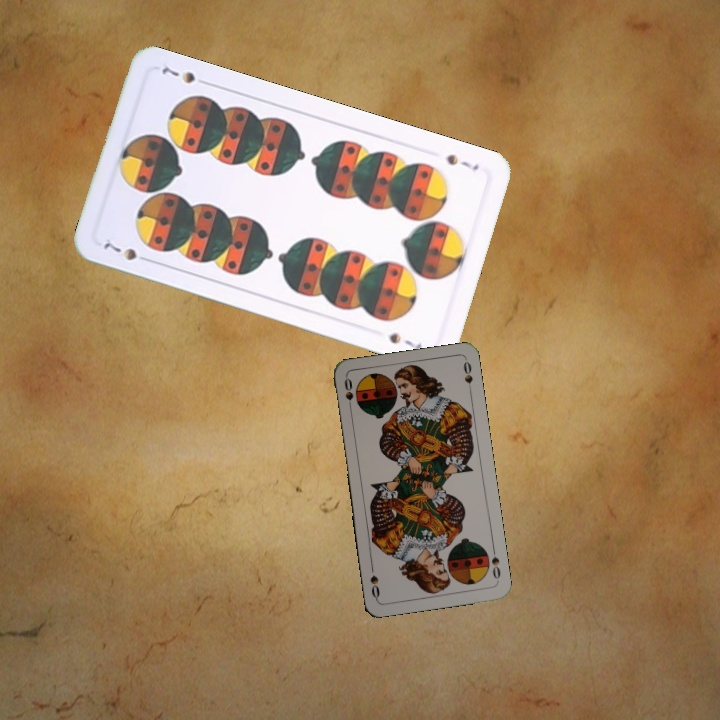S7: (99, 238, 154, 265), (442, 150, 482, 173)
SO: (487, 543, 503, 584), (340, 374, 356, 414)
